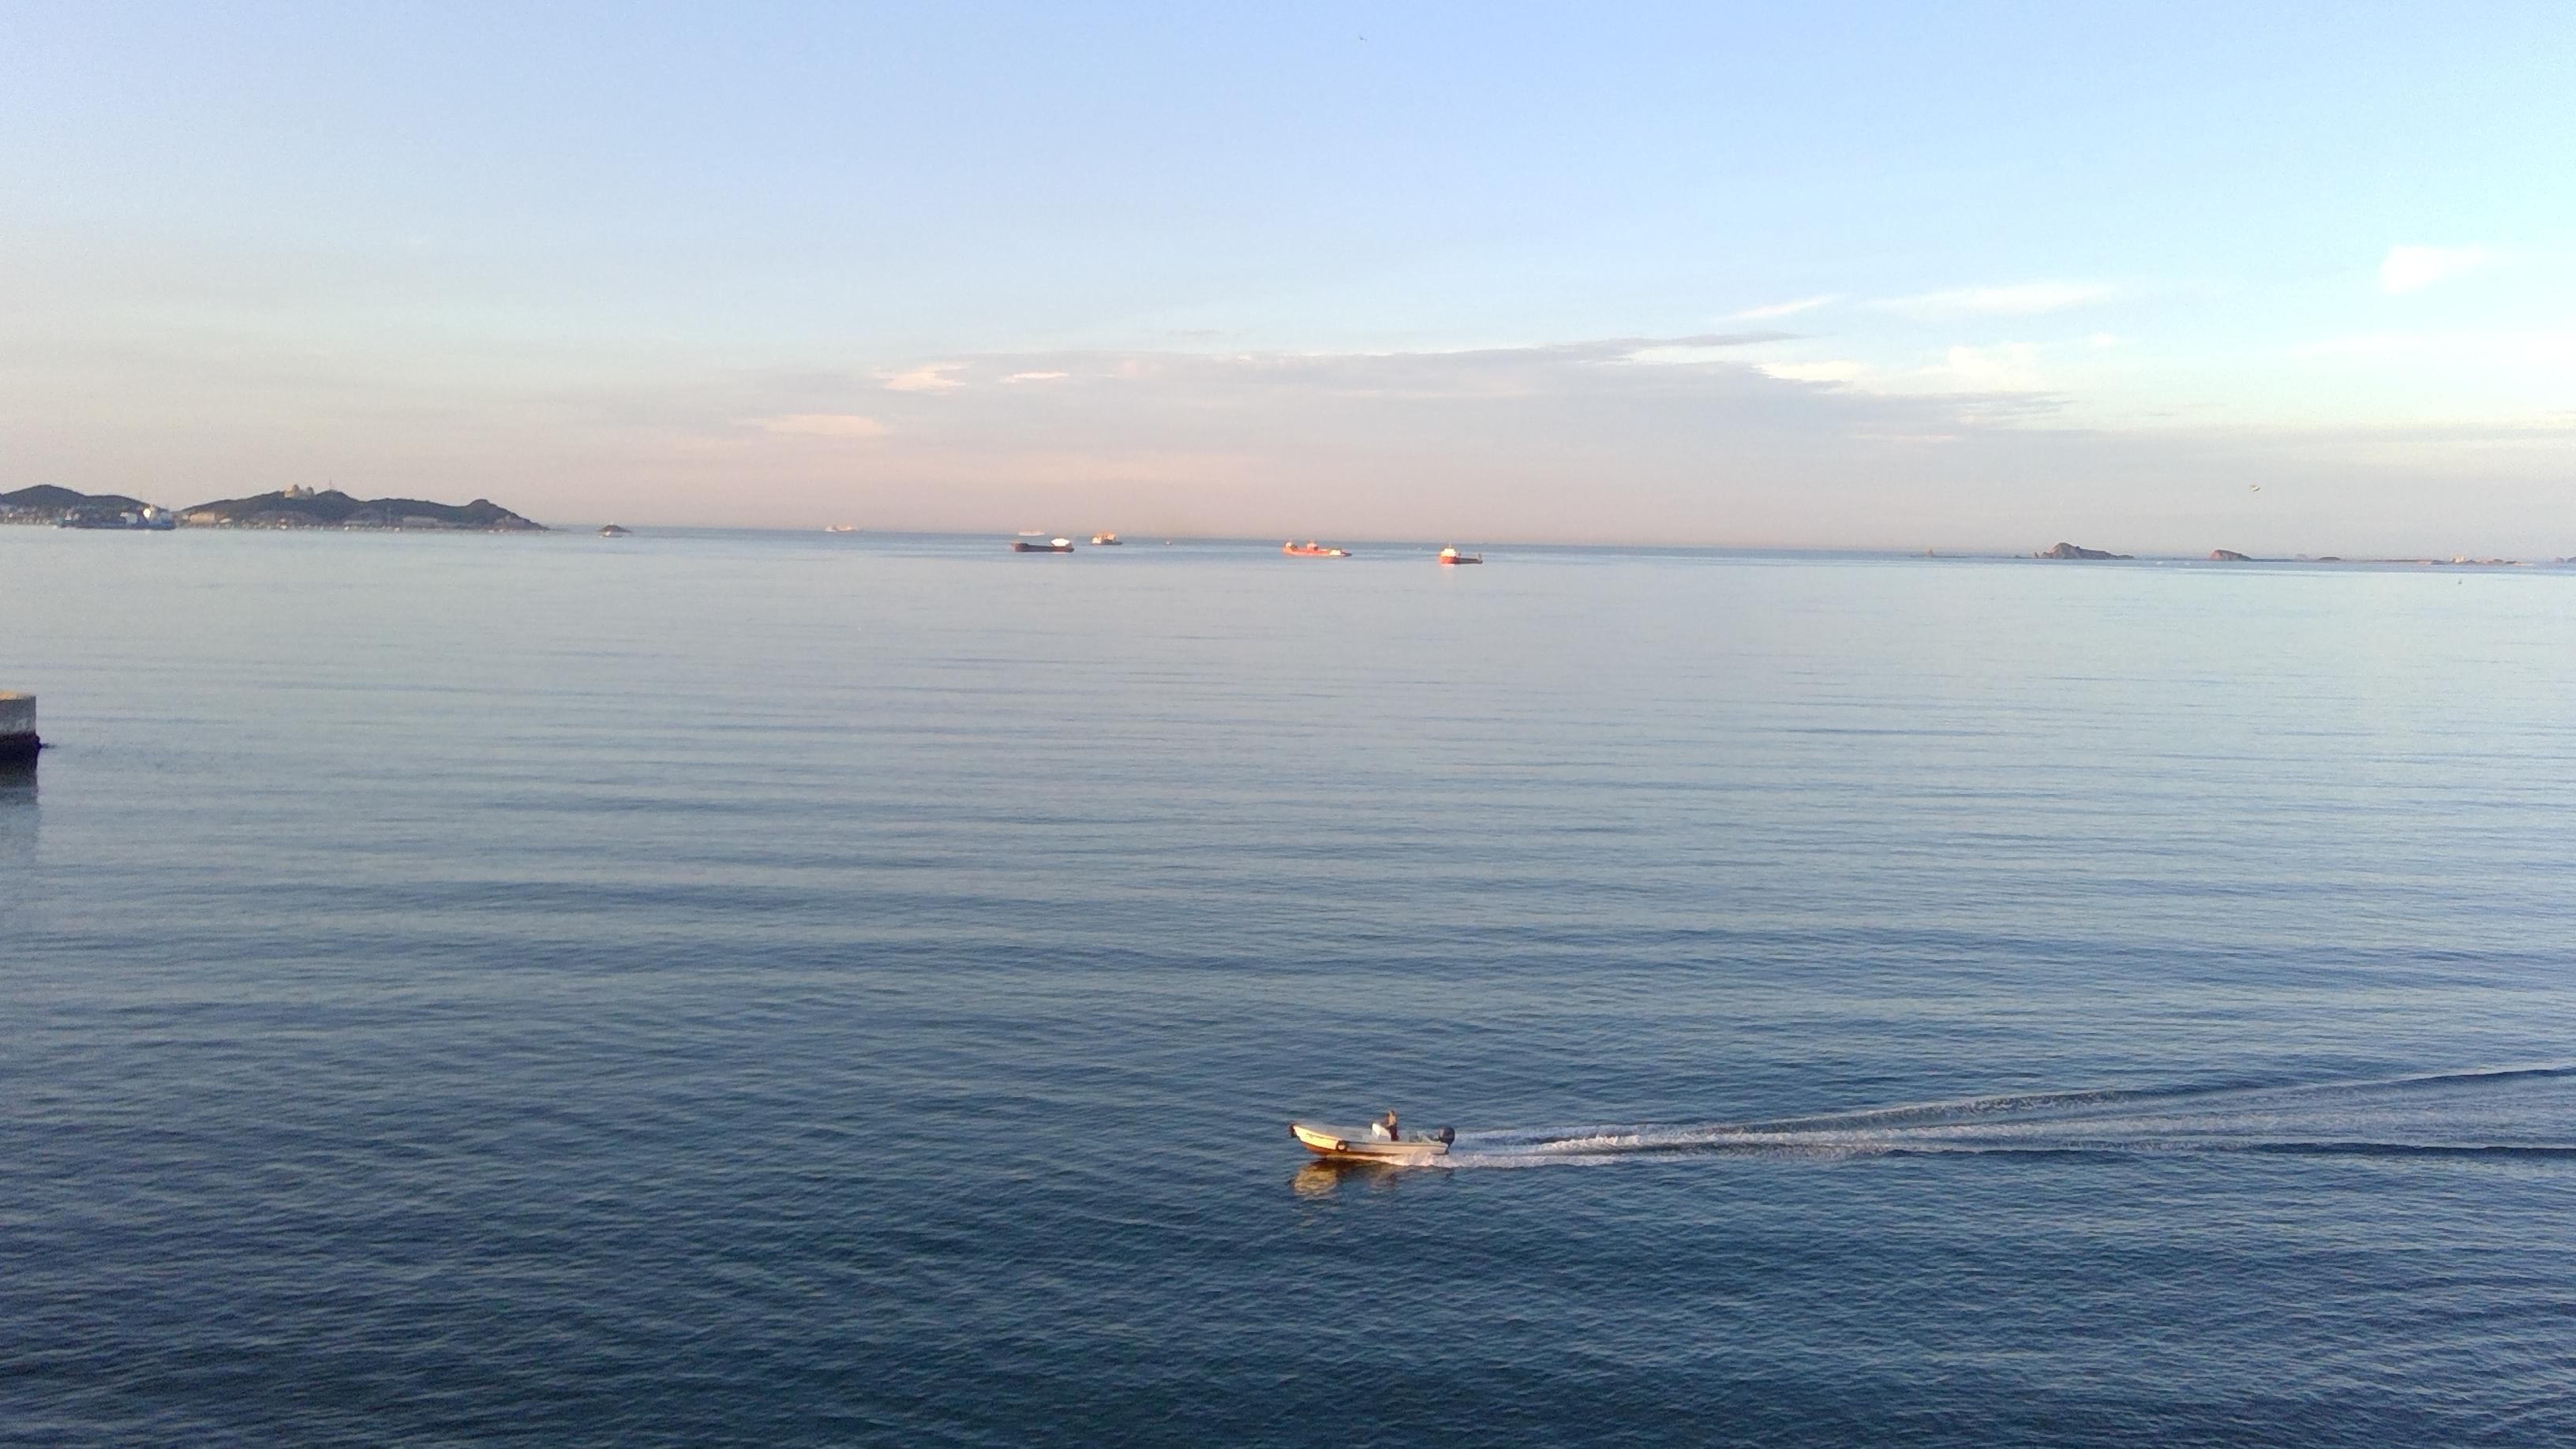boat: (1284, 1100, 1476, 1185)
rock: (168, 479, 547, 540), (5, 448, 157, 517), (2035, 534, 2134, 566)
ship: (984, 511, 1083, 563), (1276, 527, 1350, 571), (1426, 536, 1479, 568)
